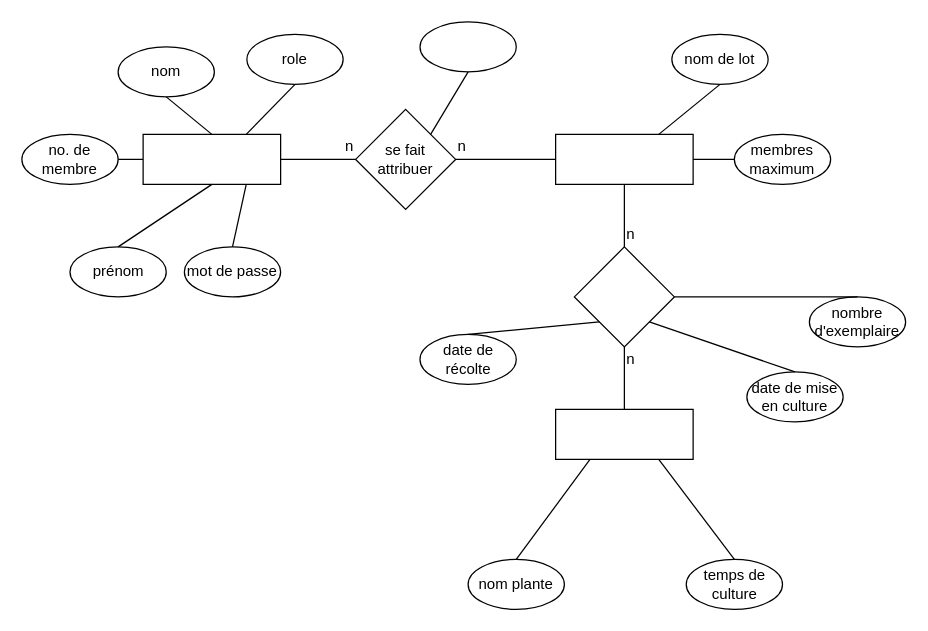
Image size: 928x631. Some labels were removed from this diagram. Each missing label, with the box of its shape:
fournis pour: (573, 246, 674, 347)
Lots: (554, 133, 693, 184)
Membres: (142, 133, 281, 184)
Plantes: (554, 408, 693, 459)
validation par admin: (419, 21, 516, 72)
